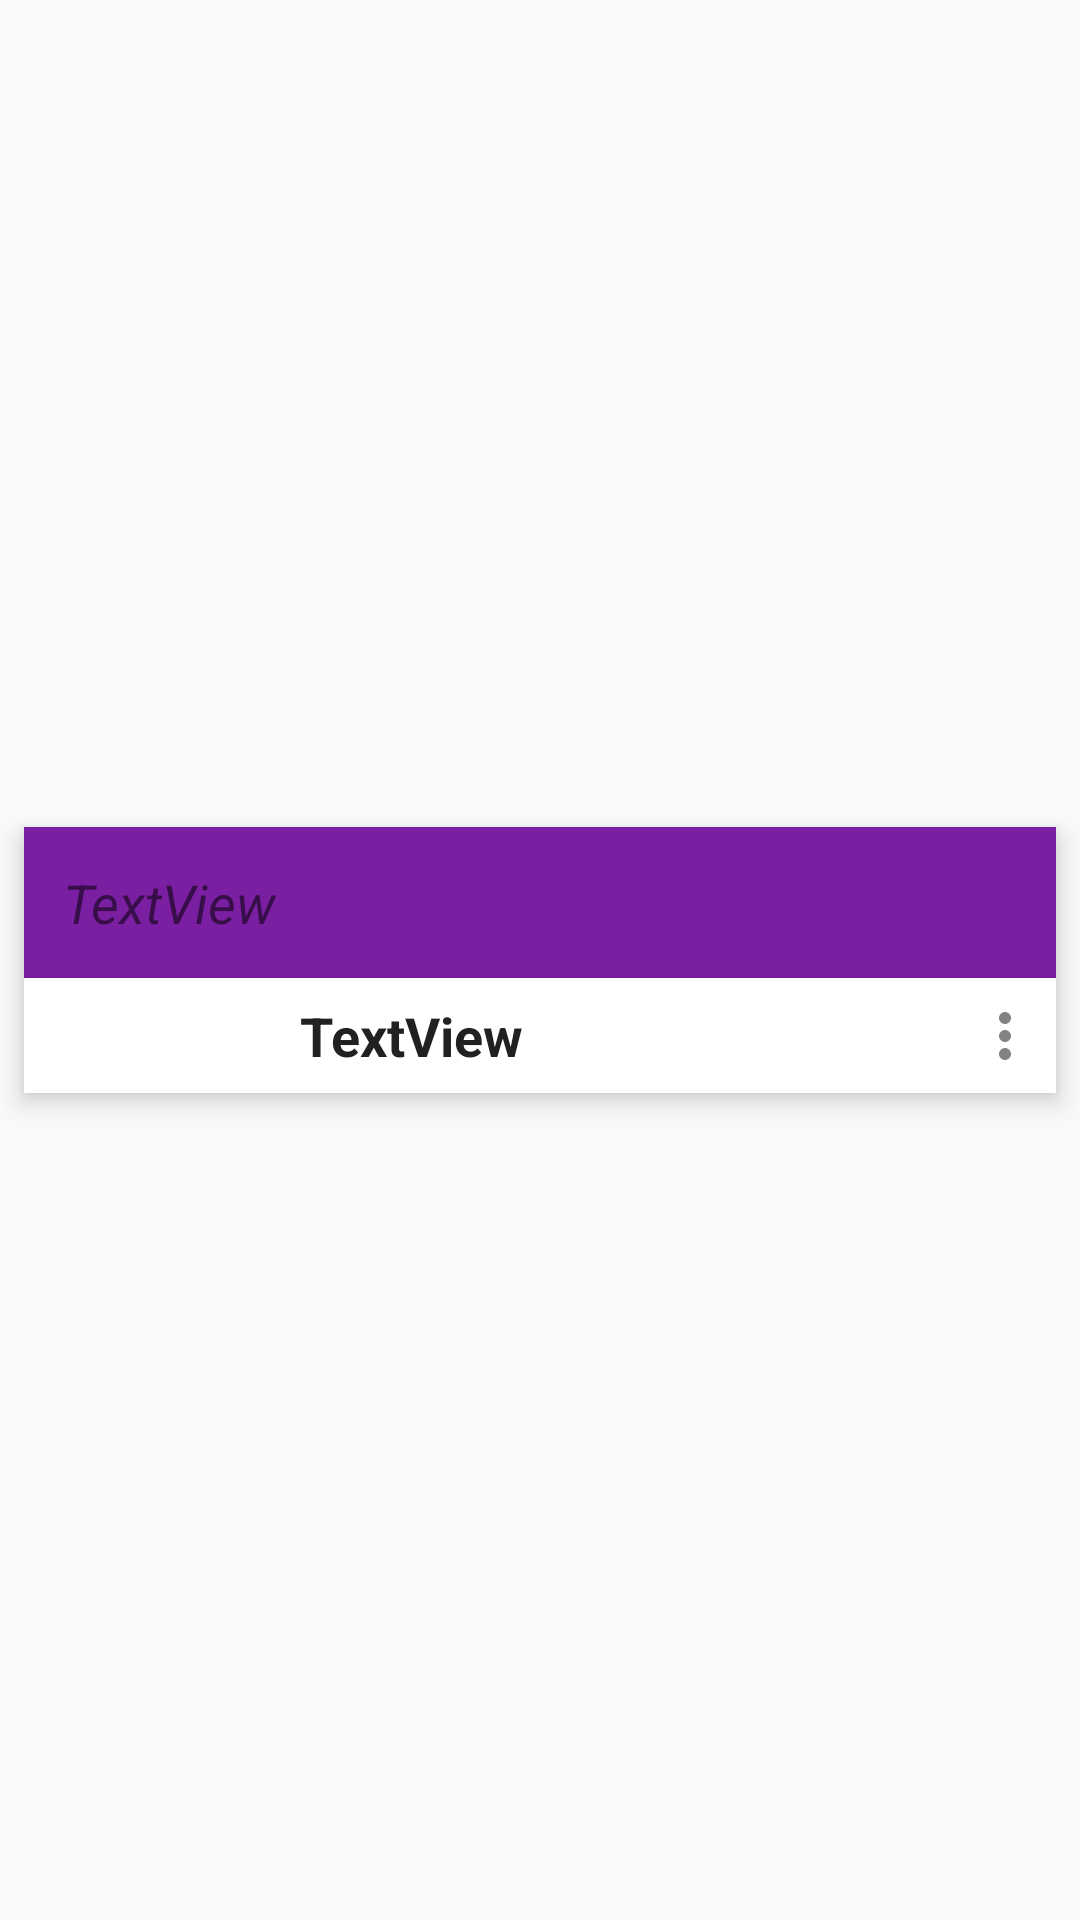

Icons on this 1080 x 1920 Android screen, each with the point to tap as point (x, y):
opmenu: point (1005, 1036)
